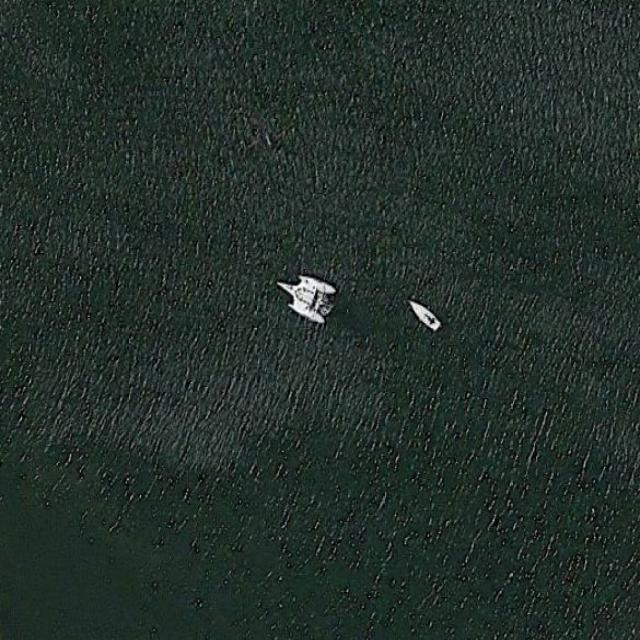ship: (272, 270, 336, 326), (405, 296, 441, 332)
